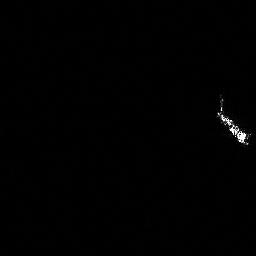ship: (216, 112, 248, 143)
